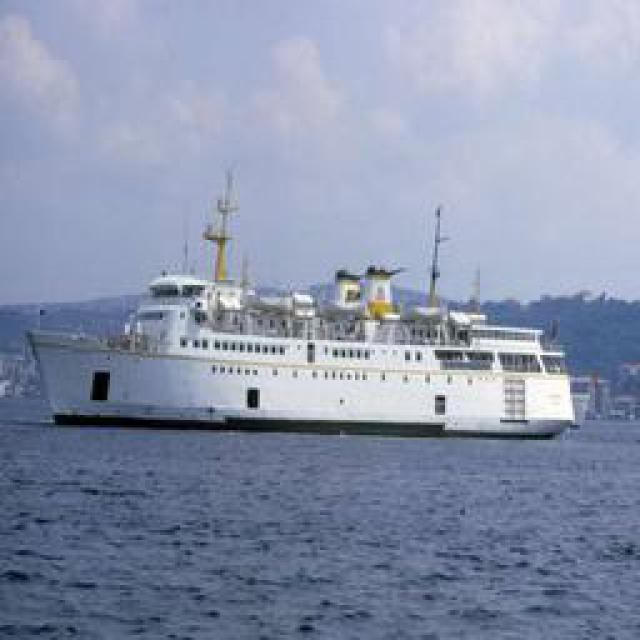Ship: (30, 175, 583, 443)
